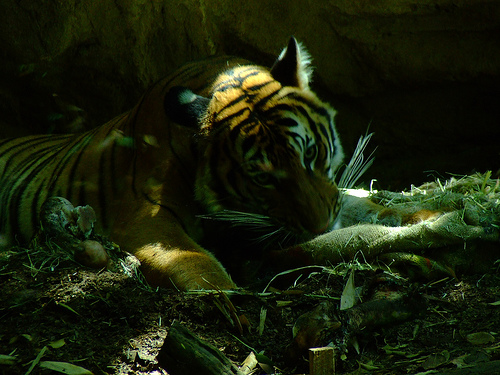Tigre: (154, 69, 373, 272)
